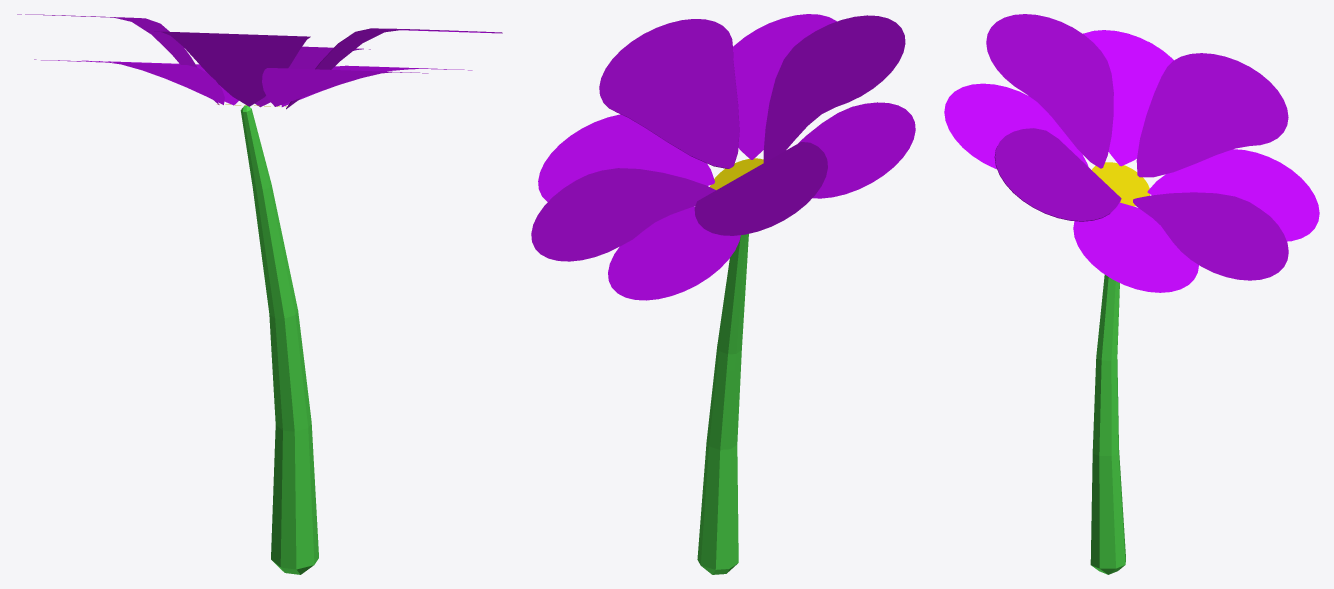
3 renders of one model, left to right at view 1: azimuth 30°, elevation 25°; view 2: azimuth 150°, elevation 25°; view 3: azimuth 270°, elevation 25°, orthographic. The views are drawn at different scales.
Parts seen in each view (by area): view 1: Flower; view 2: Flower; view 3: Flower.
Part boxes in pixels (x1,y1,x2,y2): Flower: (17, 14, 502, 574); Flower: (531, 14, 915, 574); Flower: (944, 14, 1319, 574).
Bounding box in the file's own units: 0.3237 × 0.4578 × 0.314.
